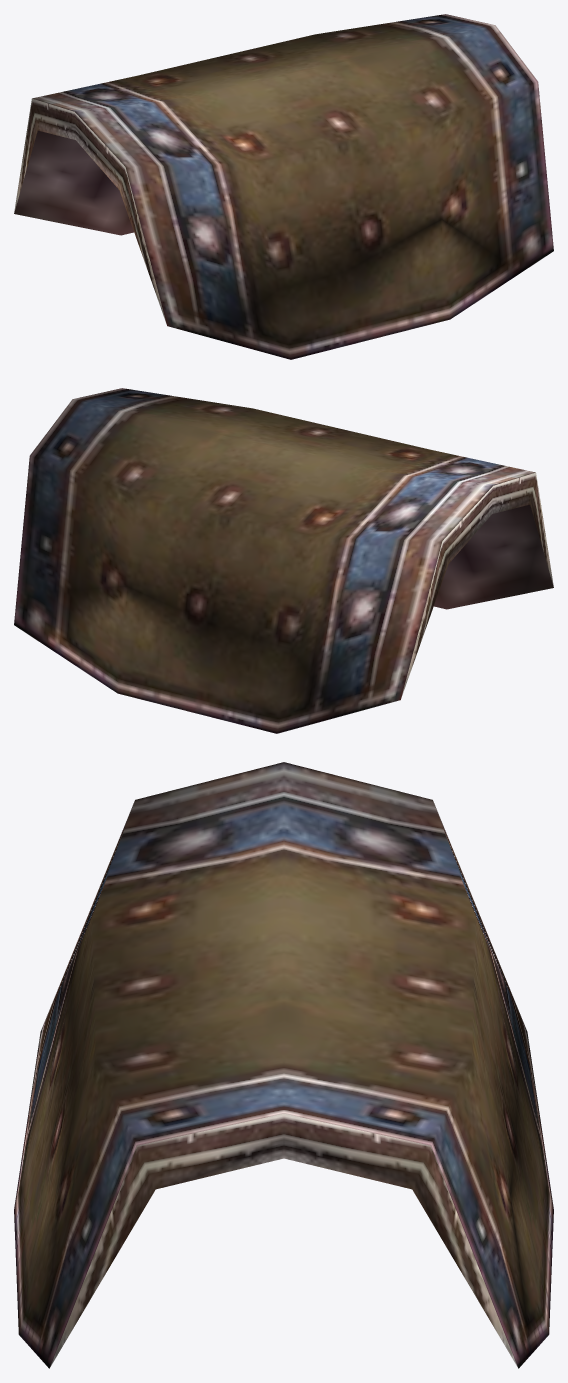
File: light_01_sa.glb
The picture shows the model from 3 angles, top to bottom: view 1: azimuth 30°, elevation 25°; view 2: azimuth 150°, elevation 25°; view 3: azimuth 270°, elevation 25°; orthographic projection. The views are drawn at different scales.
Parts seen in each view (by area): view 1: light_01_sa; view 2: light_01_sa; view 3: light_01_sa.
Part boxes in pixels (x1,y1,x2,y2): light_01_sa: (14,14,553,359); light_01_sa: (14,388,553,733); light_01_sa: (14,762,553,1368).
Size of the model in its own units: 0.2421 by 0.1199 by 0.1694.
1 material, 1 textured.
